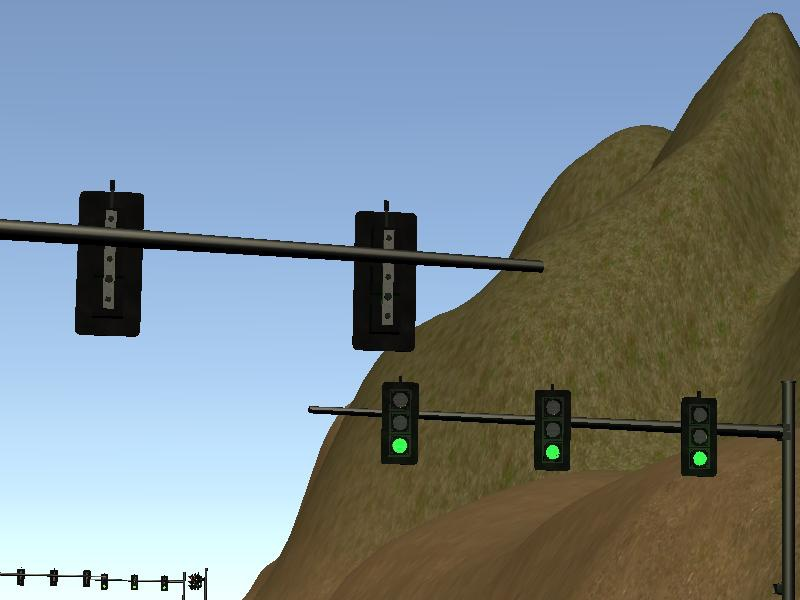Green: (680, 397, 716, 479), (382, 383, 417, 463), (536, 389, 568, 471), (100, 574, 108, 589), (160, 574, 166, 590), (132, 574, 137, 589)
